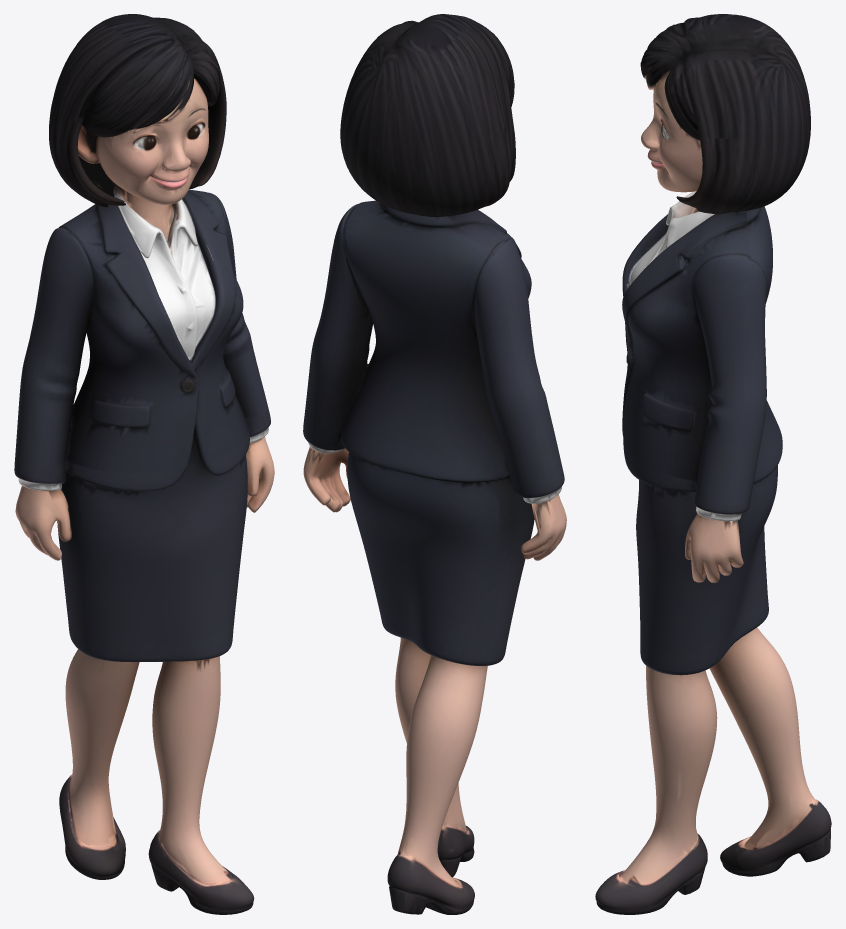
The model's file is female-player.glb.
3 views of the same model, side by side, from view 1: azimuth 30°, elevation 25°; view 2: azimuth 150°, elevation 25°; view 3: azimuth 270°, elevation 25° (orthographic).
Visible parts, largest first — view 1: node_0; view 2: node_0; view 3: node_0.
Part boxes in pixels (box(x1,y1,x2,y2)): node_0: box(14, 14, 274, 914); node_0: box(303, 14, 566, 914); node_0: box(595, 14, 831, 914).
Bounding box in the file's own units: 0.3544 × 1.17 × 0.2881.
Materials: 1 (1 with a texture image).
